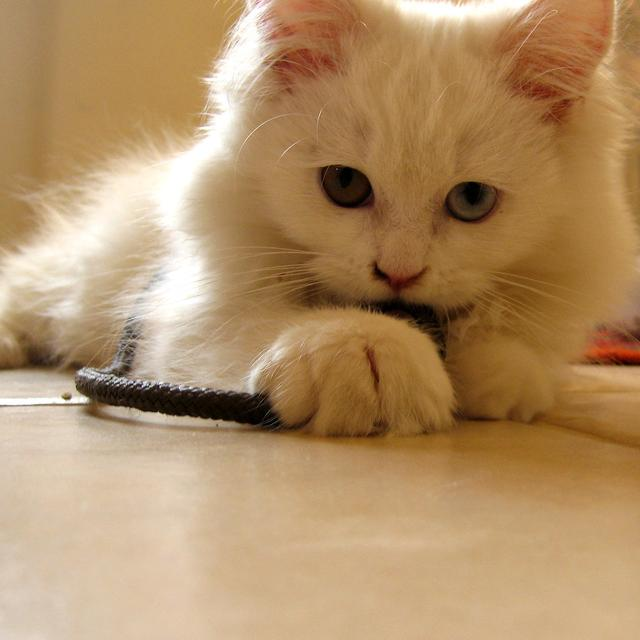animals: (268, 0, 606, 285)
